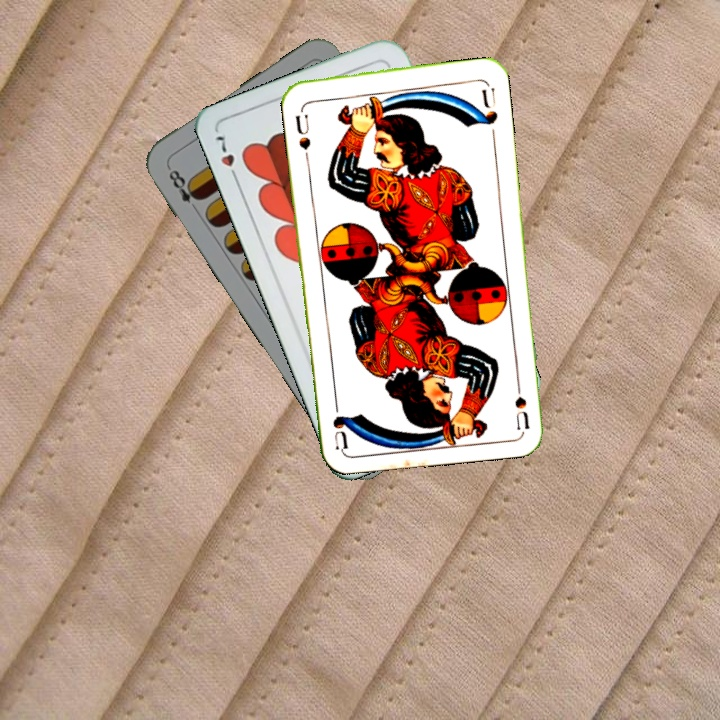E8: (163, 162, 205, 215)
H7: (212, 131, 241, 186)
SU: (510, 371, 532, 430), (291, 110, 314, 161)
